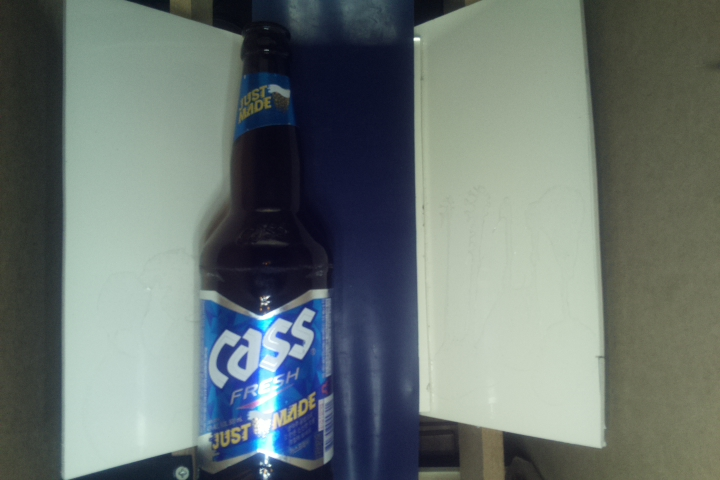makju: (195, 19, 339, 480)
